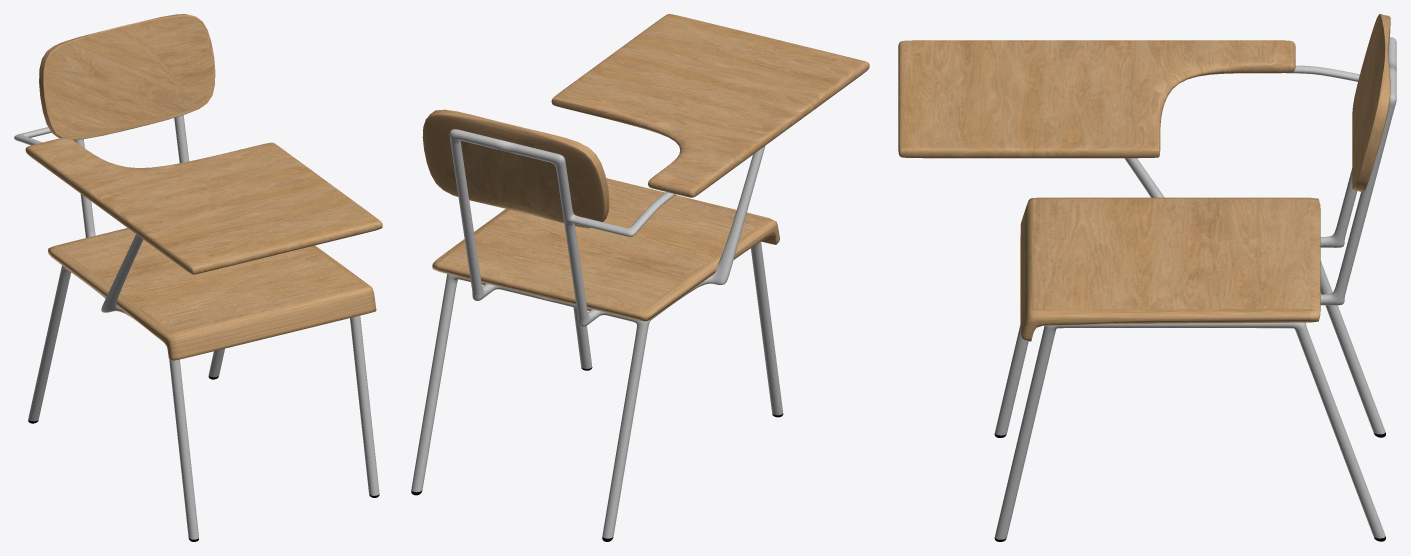
File: uploads_files_4396477_bench.fbx
The picture shows the model from 3 angles, left to right: view 1: azimuth 30°, elevation 25°; view 2: azimuth 150°, elevation 25°; view 3: azimuth 270°, elevation 25°; orthographic projection. The views are drawn at different scales.
Visible parts, largest first — view 1: Plane.001, Cube, Cube.001, Plane; view 2: Plane.001, Cube, Plane, Cube.001; view 3: Cube, Plane.001, Plane, Cube.001.
Boxes of the visible parts, box(x1,y1,x2,y2) form: Plane.001: box(25, 137, 382, 274); Cube: box(48, 228, 376, 360); Cube.001: box(39, 14, 215, 139); Plane: box(14, 115, 379, 541); Plane.001: box(551, 14, 869, 197); Cube: box(432, 178, 779, 321); Plane: box(411, 129, 783, 541); Cube.001: box(422, 109, 609, 228); Cube: box(1020, 197, 1320, 341); Plane.001: box(898, 40, 1295, 158); Plane: box(994, 37, 1396, 541); Cube.001: box(1352, 14, 1390, 192).
Bounding box in the file's own units: 2247 × 3366 × 3454.
